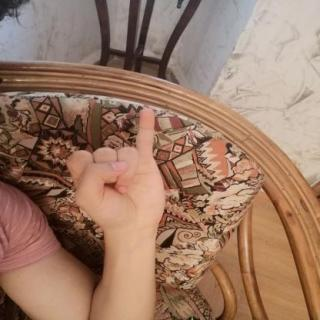MEEM: (51, 101, 176, 236)
